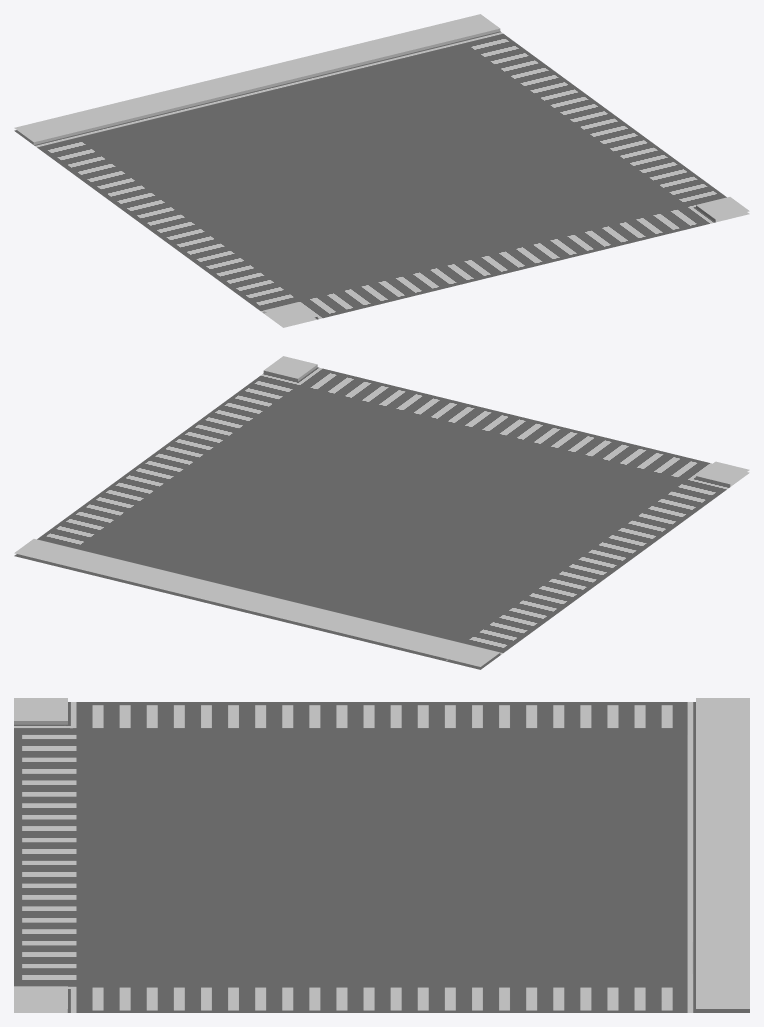
File: Large IntersectionClosed.fbx
3 views of the same model, one above another, from view 1: azimuth 30°, elevation 25°; view 2: azimuth 150°, elevation 25°; view 3: azimuth 270°, elevation 25° (orthographic). The views are drawn at different scales.
Visible parts, largest first — view 1: Large IntersectionClosed; view 2: Large IntersectionClosed; view 3: Large IntersectionClosed.
Part boxes in pixels (bbox=[...]): Large IntersectionClosed: bbox=[14, 14, 749, 327]; Large IntersectionClosed: bbox=[14, 356, 749, 669]; Large IntersectionClosed: bbox=[14, 698, 749, 1012].
Size of the model in its own units: 3400 by 20 by 3400.
